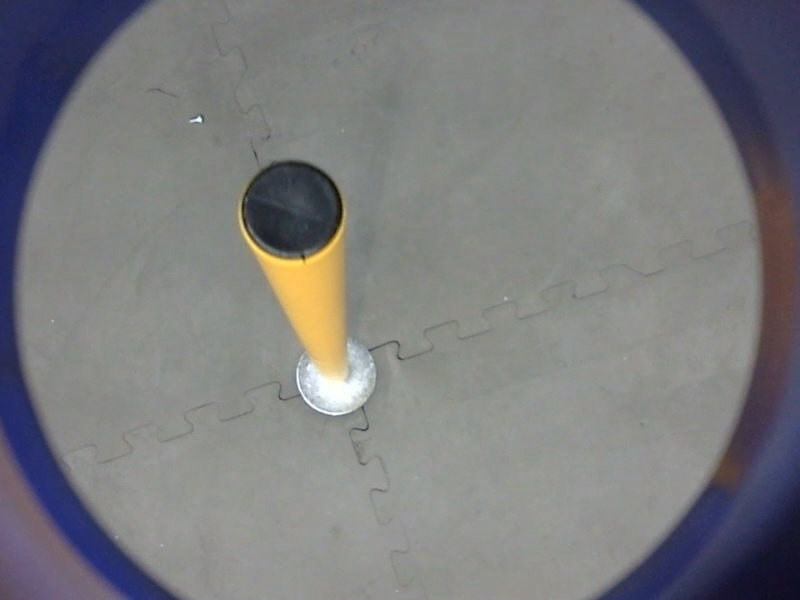tip: (233, 153, 350, 267)
